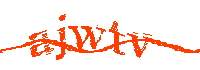a: (28, 28, 53, 58)
j: (57, 13, 67, 64)
t: (109, 21, 126, 57)
v: (128, 30, 151, 59)
w: (69, 25, 107, 53)
